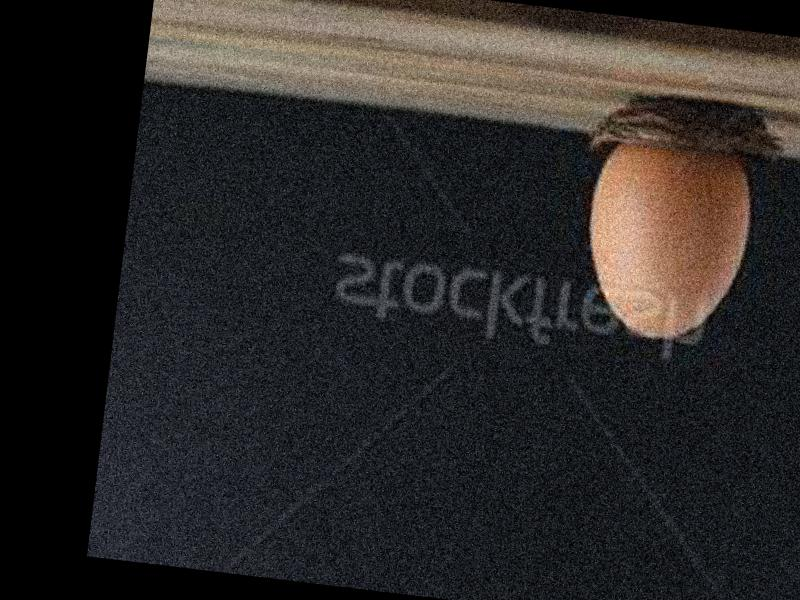Eggs: (580, 135, 759, 346)
